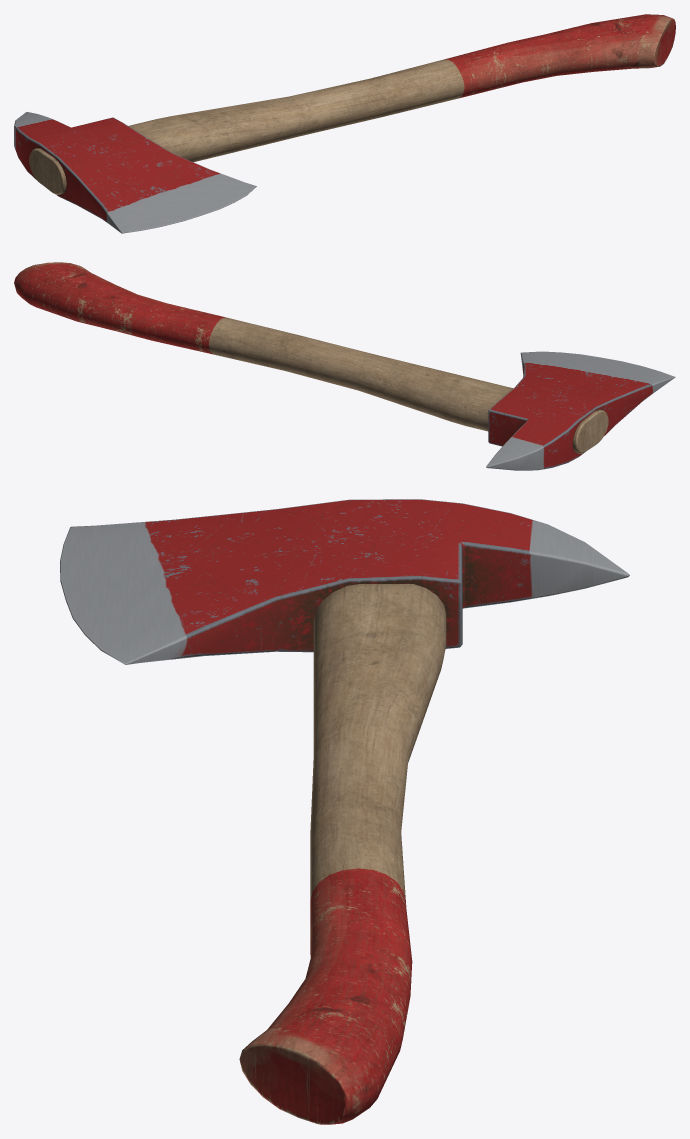
File: axe.glb
3 views of the same model, one above another, from view 1: azimuth 30°, elevation 25°; view 2: azimuth 150°, elevation 25°; view 3: azimuth 270°, elevation 25° (orthographic). The views are drawn at different scales.
Visible parts, largest first — view 1: fire_axe; view 2: fire_axe; view 3: fire_axe.
Boxes of the visible parts, x1,y1,x2,y2 form: fire_axe: [14, 14, 675, 233]; fire_axe: [14, 262, 675, 470]; fire_axe: [60, 499, 629, 1124].
Size of the model in its own units: 0.61 by 0.0385 by 0.254.
1 material, 1 textured.
